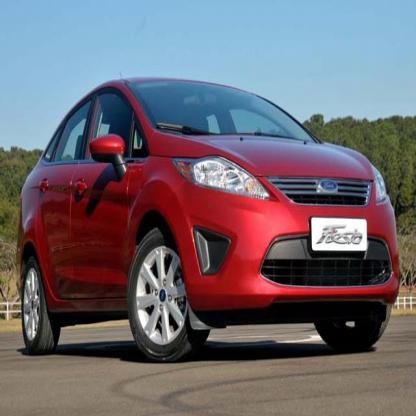Vehicle: (19, 72, 402, 367)
